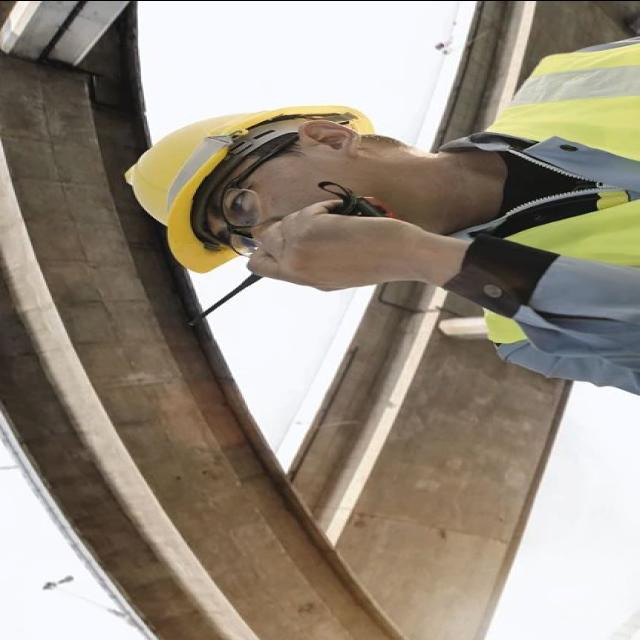Hard Hat: (112, 96, 374, 282)
Reflective Vest: (464, 36, 640, 346)
Safety Glasses: (210, 127, 300, 265)
